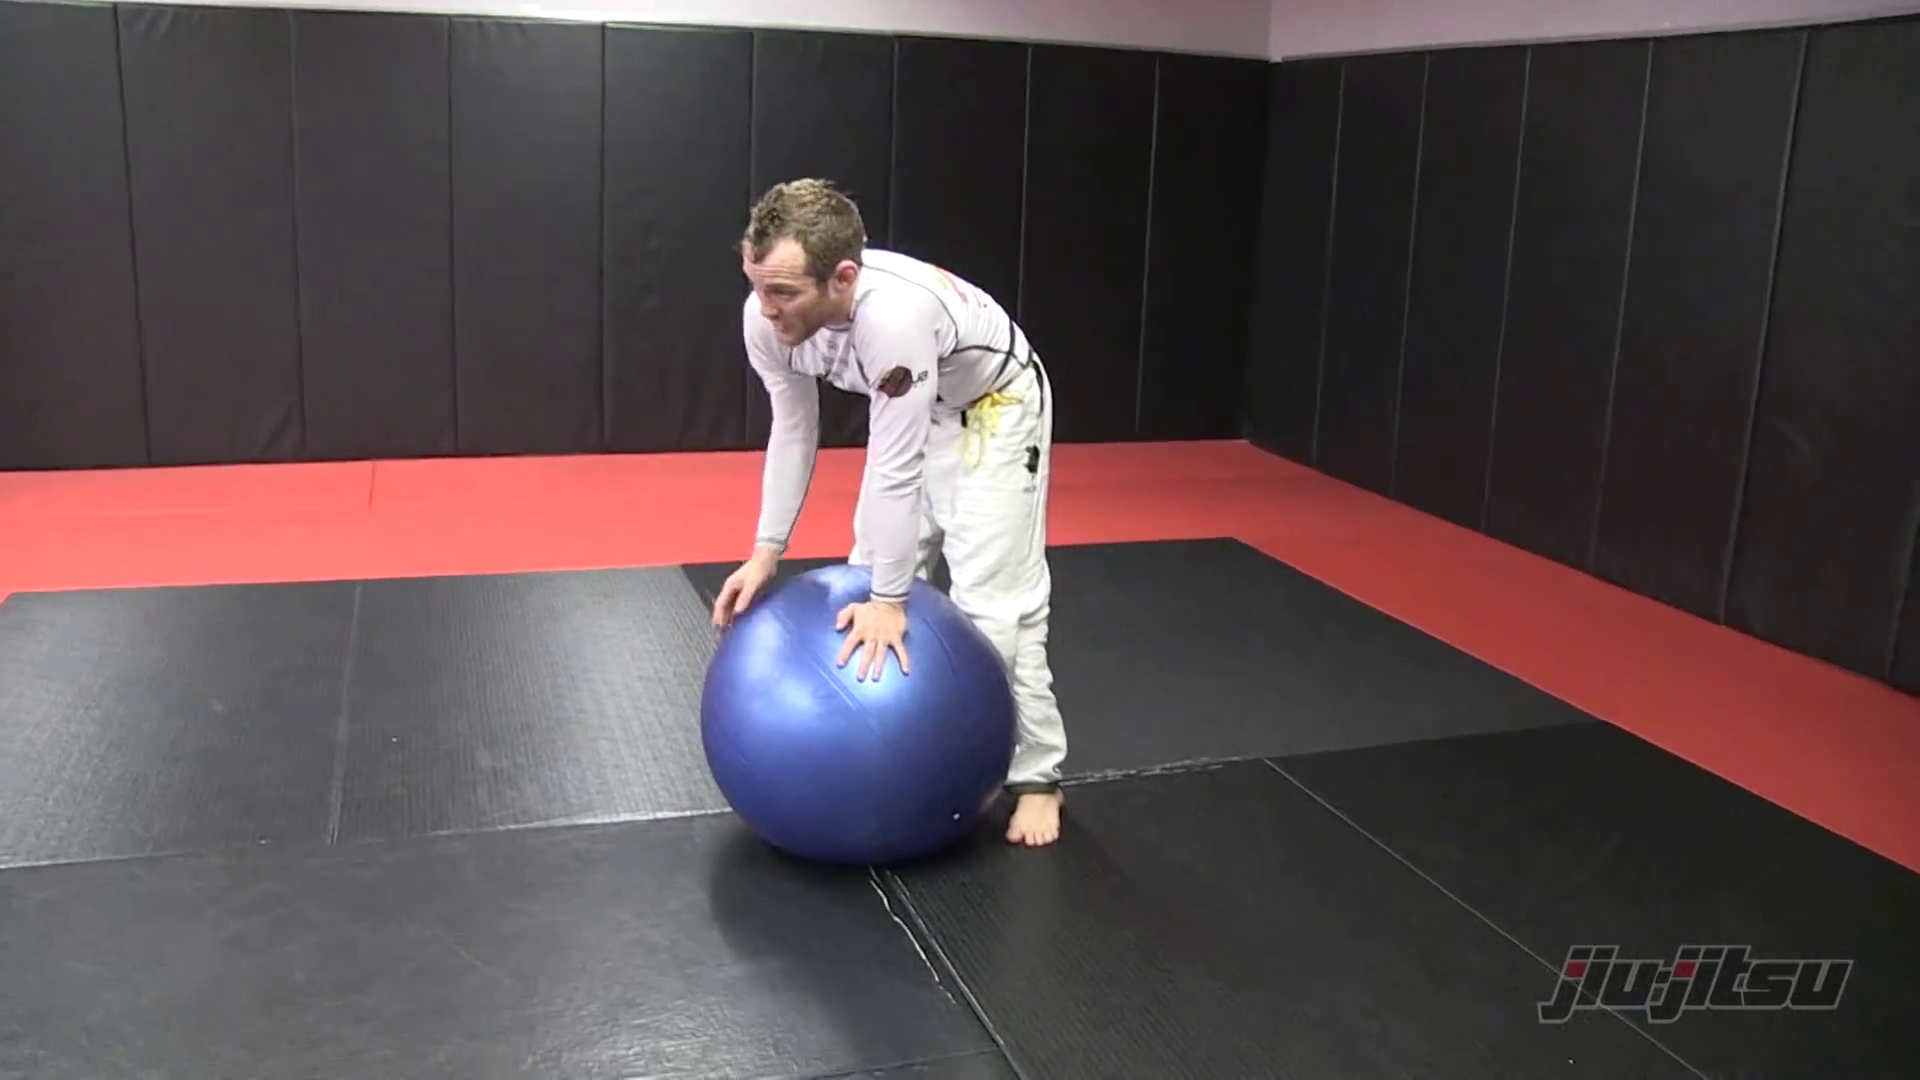yogaball: (688, 570, 1027, 873)
